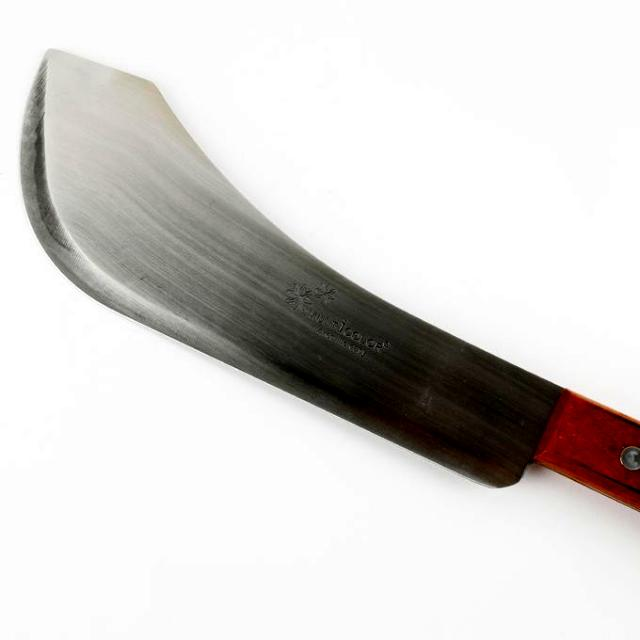long knife: (40, 39, 614, 521)
